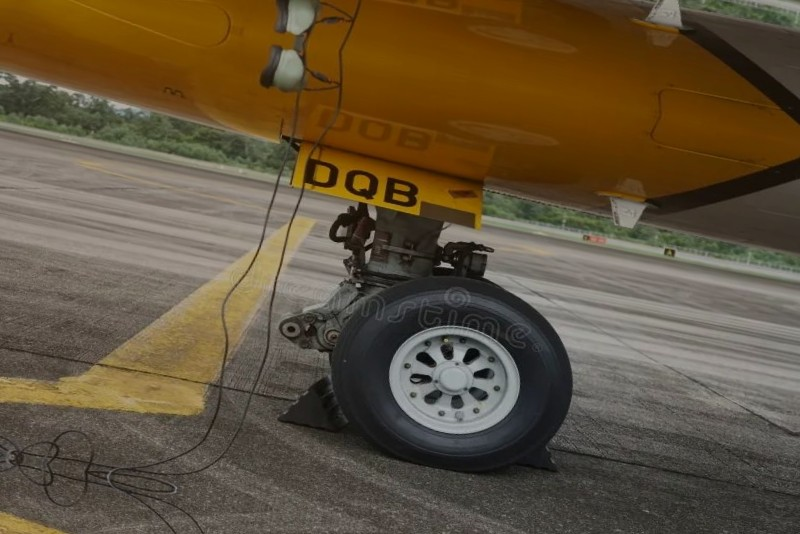chock: (277, 366, 356, 435)
wheel: (308, 250, 588, 489)
